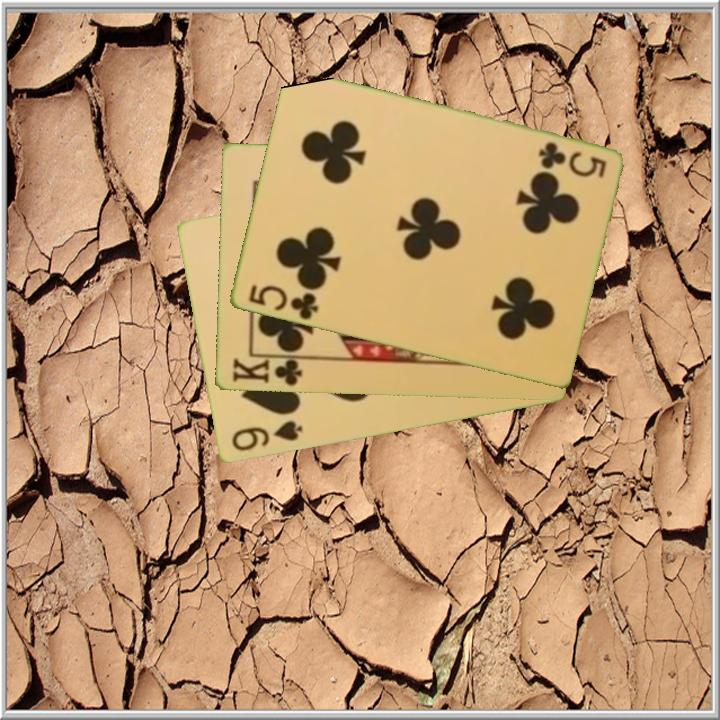5c: (244, 281, 321, 323), (534, 138, 609, 181)
9s: (227, 417, 305, 455)
Kc: (228, 353, 309, 389)
